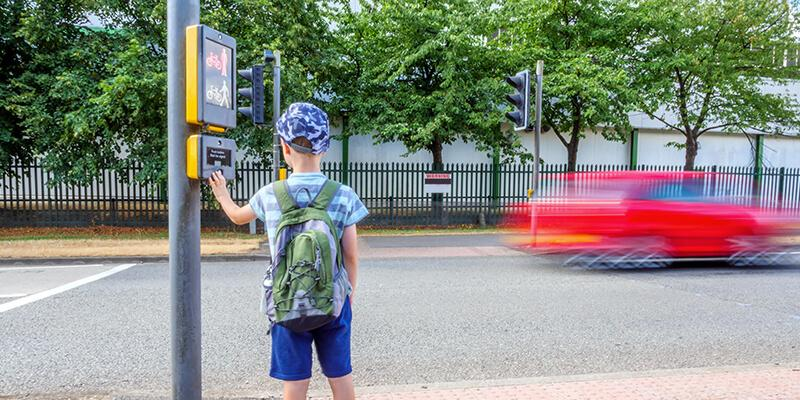pedestrian: (200, 99, 397, 400)
traffic light: (501, 54, 551, 145)
